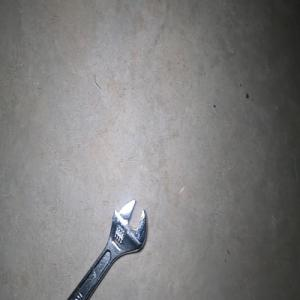Wrench: (67, 199, 147, 300)
